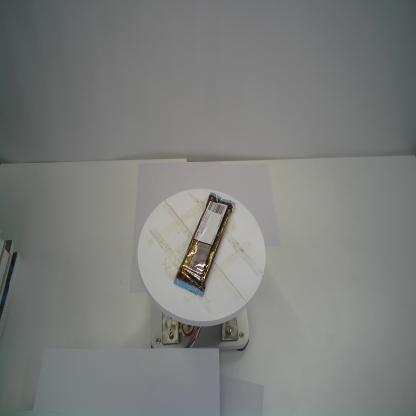Chocolate: (172, 189, 234, 298)
